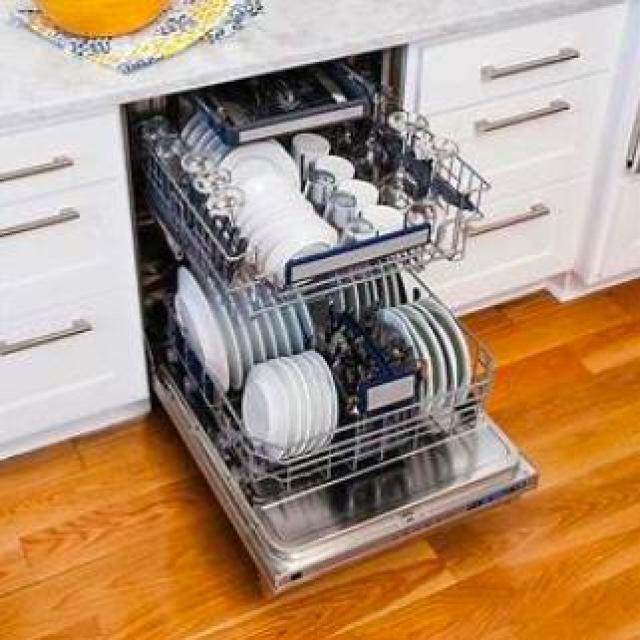dishwasher: (120, 44, 536, 596)
